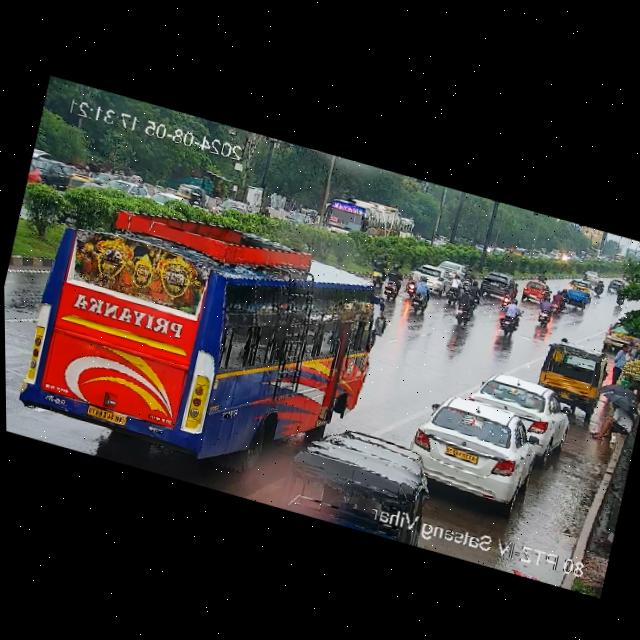bus: (3, 174, 391, 496), (324, 186, 408, 251)
car: (402, 382, 540, 515), (477, 370, 567, 456), (539, 339, 606, 413), (203, 192, 254, 224), (33, 157, 75, 193), (106, 174, 149, 200), (149, 187, 187, 210), (562, 281, 591, 311), (174, 182, 209, 203)
motorcycle: (448, 283, 476, 328), (496, 294, 523, 336), (409, 272, 433, 316), (363, 249, 391, 286), (439, 272, 466, 307), (383, 262, 403, 302), (536, 295, 556, 330), (404, 264, 422, 297), (444, 273, 461, 304), (550, 289, 563, 314), (459, 266, 473, 289), (530, 269, 552, 283), (466, 279, 481, 298), (559, 287, 572, 303)
person: (587, 394, 640, 457), (608, 341, 631, 381)
